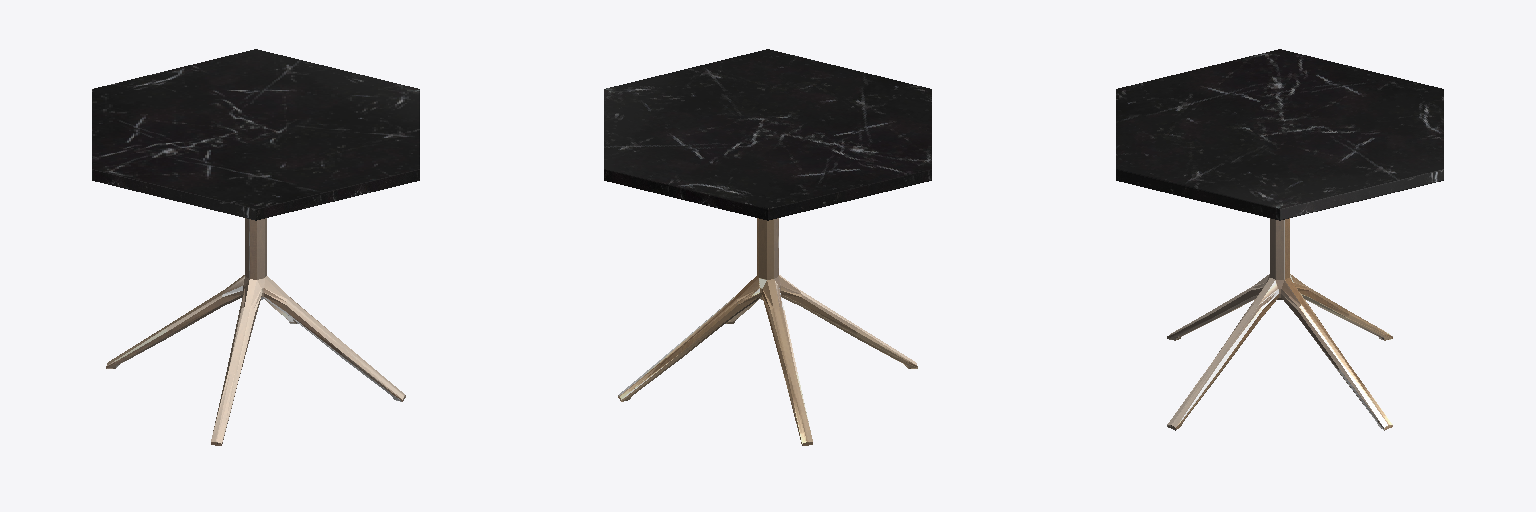
3 views of the same model, side by side, from view 1: azimuth 30°, elevation 25°; view 2: azimuth 150°, elevation 25°; view 3: azimuth 270°, elevation 25° (orthographic).
Visible parts, largest first — view 1: solid_002, solid_001; view 2: solid_002, solid_001; view 3: solid_002, solid_001.
Boxes of the visible parts, <box> form: solid_002: <box>92,49,419,220</box>; solid_001: <box>106,218,405,445</box>; solid_002: <box>604,49,931,220</box>; solid_001: <box>618,218,917,445</box>; solid_002: <box>1116,49,1443,220</box>; solid_001: <box>1167,218,1392,430</box>.
Size of the model in its own units: 1.61 by 1.19 by 1.4.
Materials: 1 (1 with a texture image).